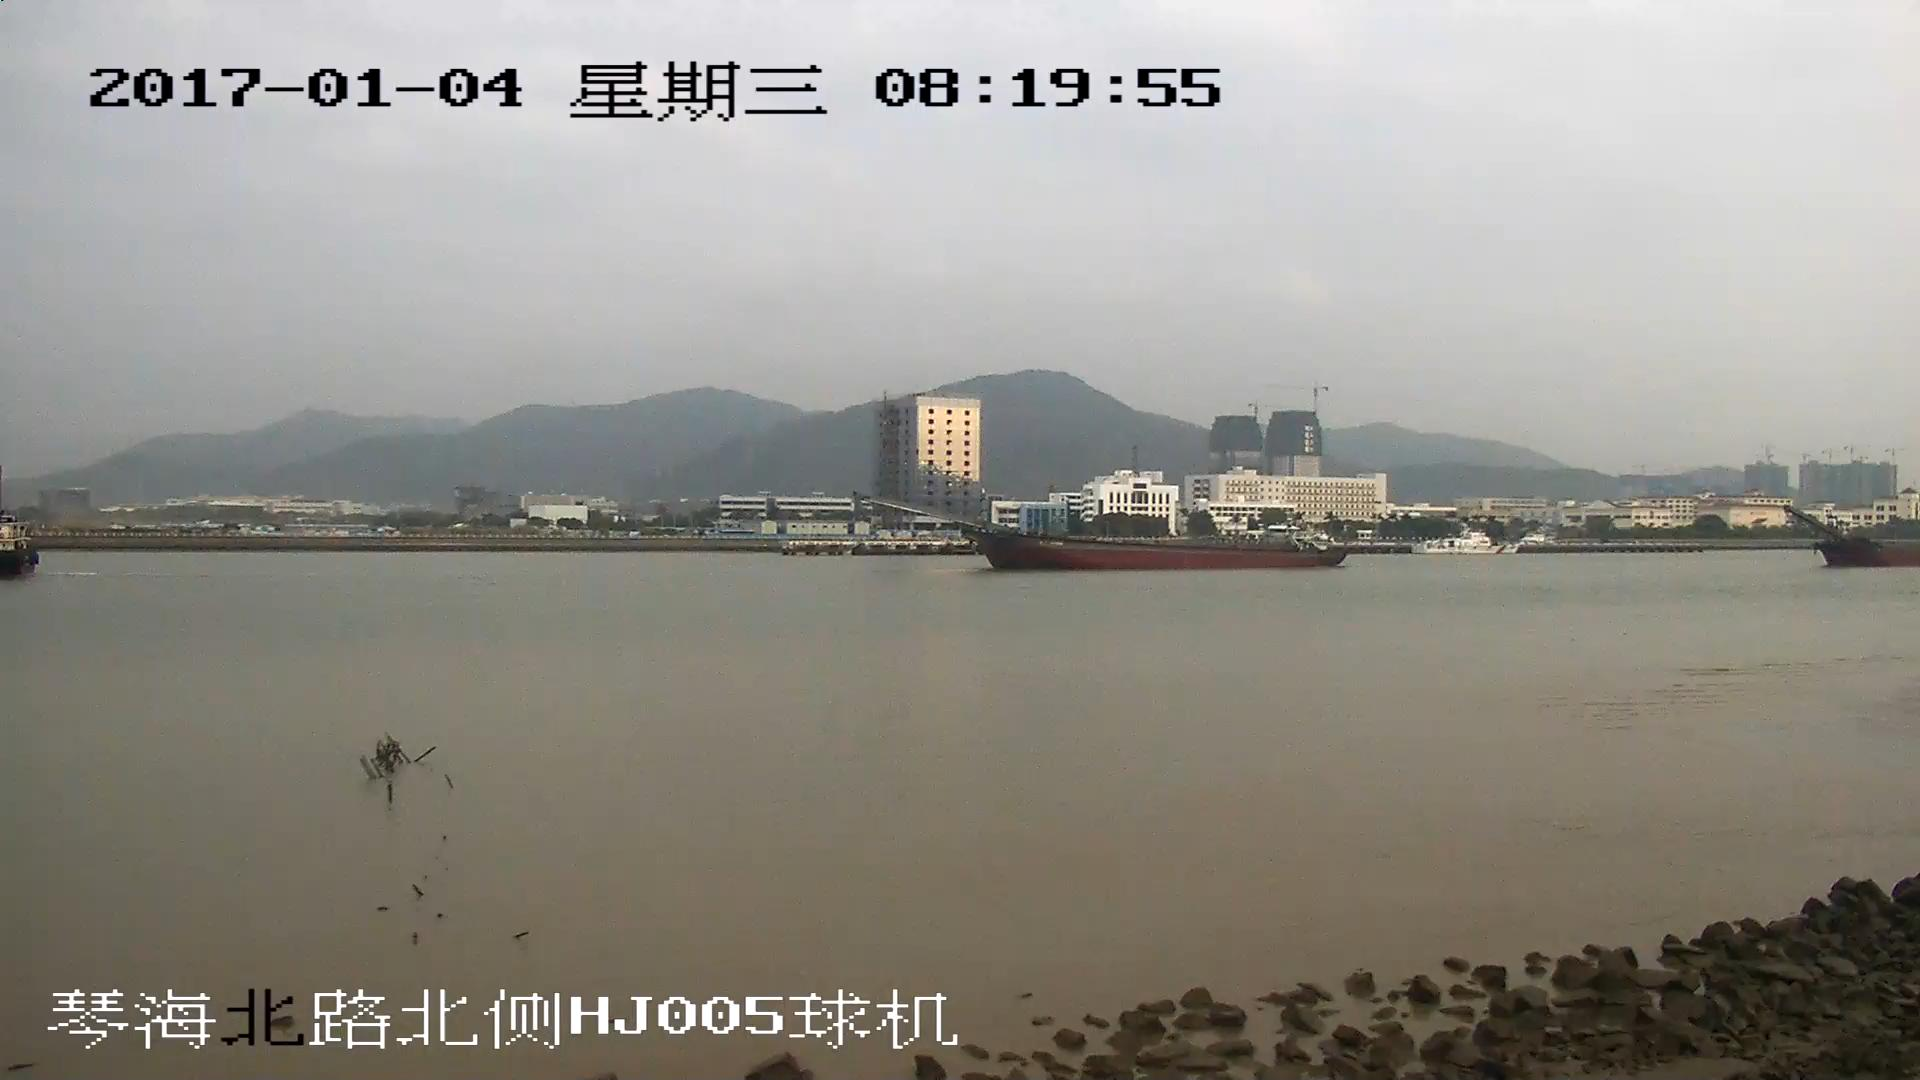bulk cargo carrier: (862, 492, 1344, 570), (1787, 503, 1920, 562)
